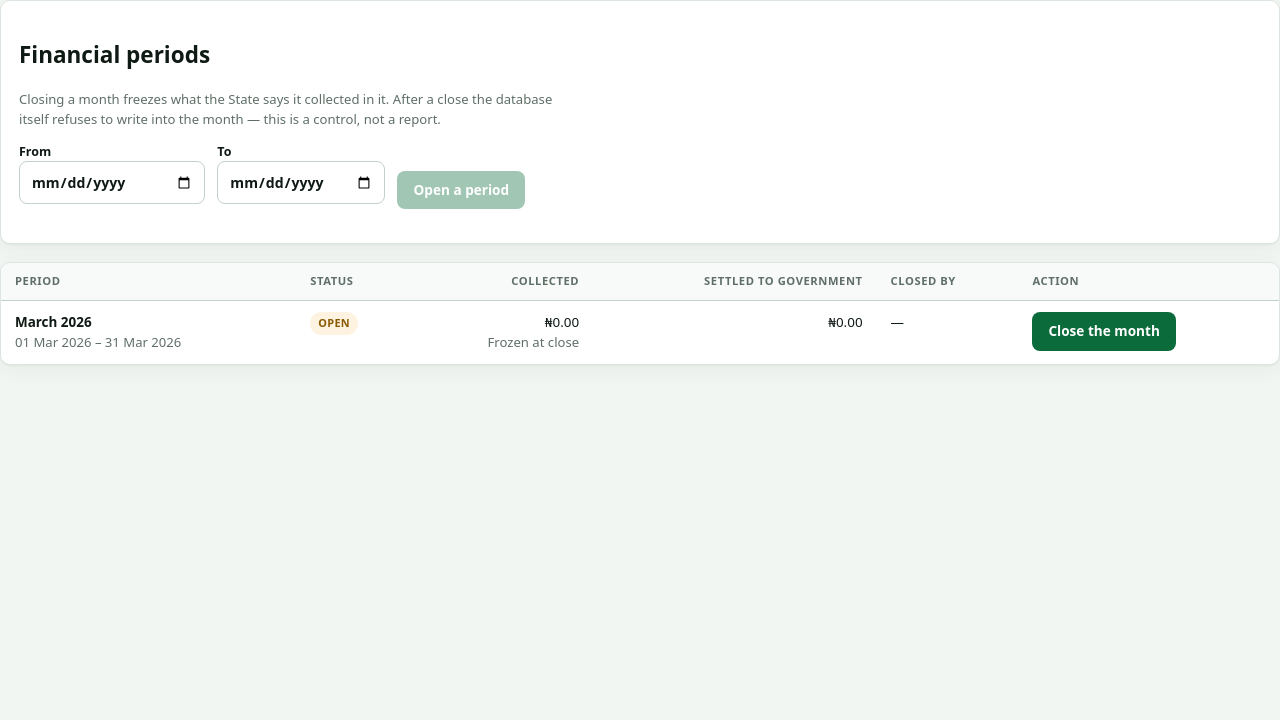
Scenario: closing a month you cannot see › says how much the bank has not yet paid in, and asks why when closing over it
Click the button "Close the month" at (1104, 331), box [1032,312,1176,351]
(page scrolled)
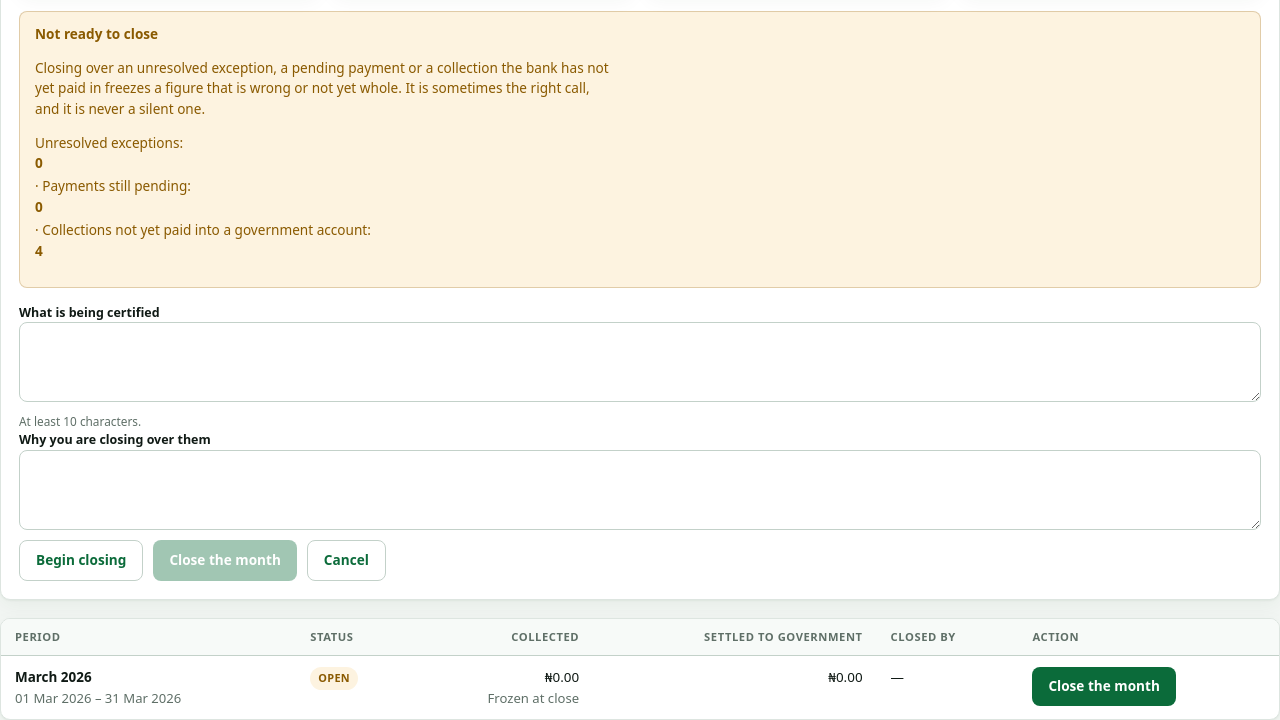
Now the text "Not ready to close" is shown, box [35,24,158,43]
Now the text "Collections not yet paid into a government account" is shown, box [42,220,367,239]
Now the text box labelled "Why you are closing over them" is shown, box [19,450,1261,530]
